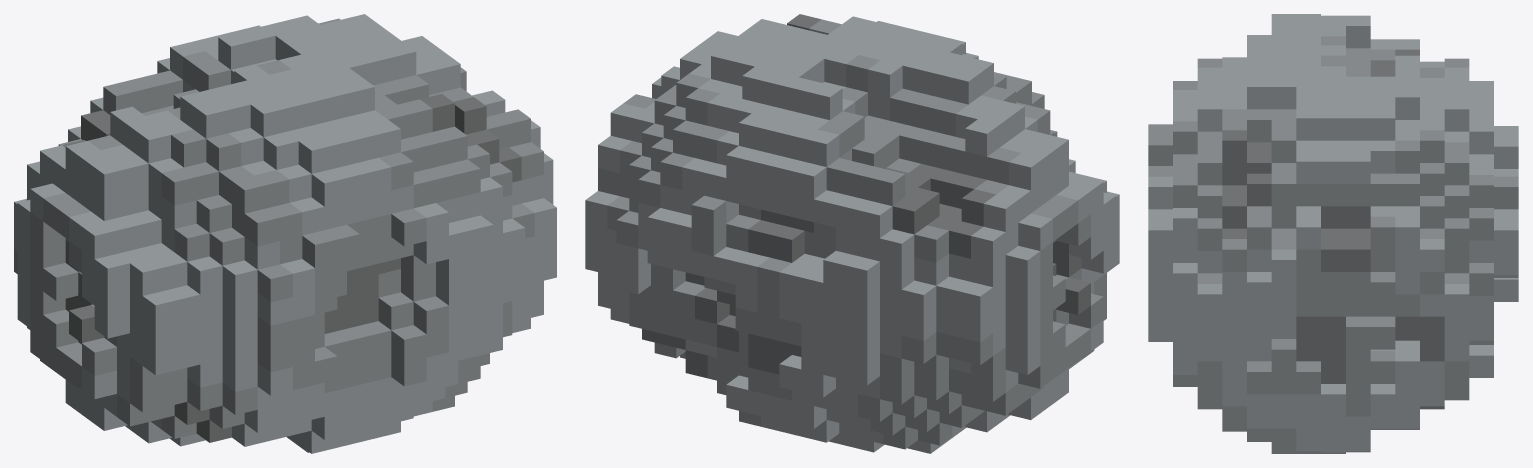
Rendered from Asteroid.FBX.
3 renders of one model, left to right at view 1: azimuth 30°, elevation 25°; view 2: azimuth 150°, elevation 25°; view 3: azimuth 270°, elevation 25°, orthographic. The views are drawn at different scales.
Parts seen in each view (by area): view 1: model_Asteroid_obj; view 2: model_Asteroid_obj; view 3: model_Asteroid_obj.
Boxes of the visible parts, x1,y1,x2,y2 form: model_Asteroid_obj: [14, 14, 556, 453]; model_Asteroid_obj: [585, 14, 1119, 453]; model_Asteroid_obj: [1148, 14, 1518, 453].
Size of the model in its own units: 20 by 15 by 15.
1 material, 1 textured.
